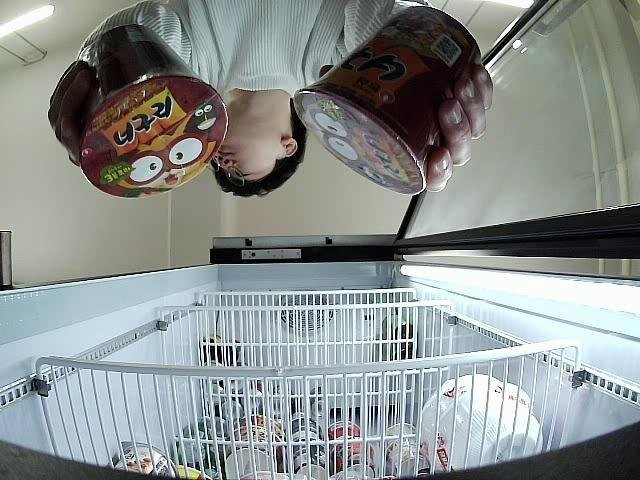06_nuguri_S: (295, 7, 491, 197), (84, 29, 230, 200)
